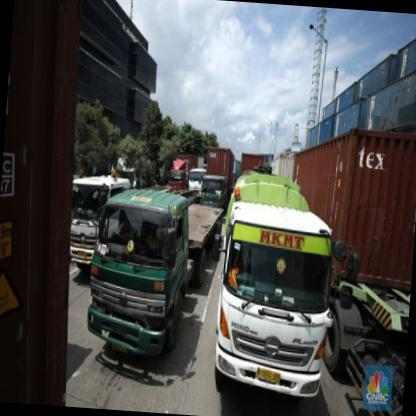truck: (210, 201, 342, 416), (86, 188, 198, 370)
